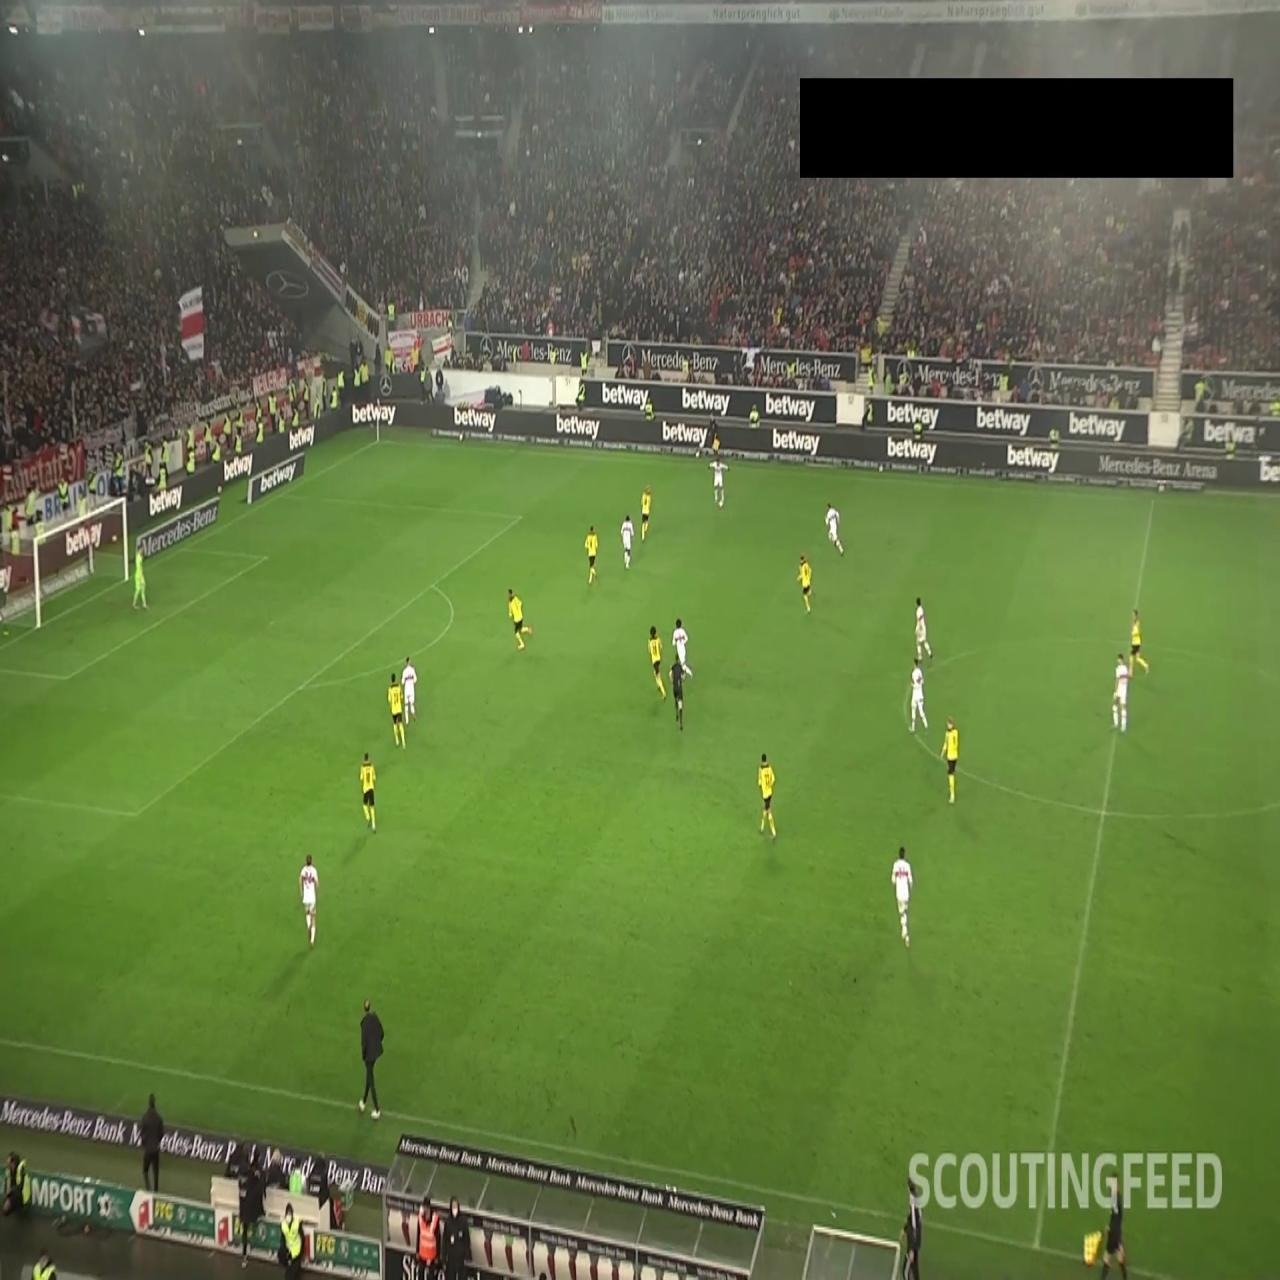Ball: (718, 499, 724, 510)
GoalKeeper: (132, 544, 149, 610)
Player: (890, 845, 914, 947), (299, 852, 320, 948), (940, 714, 959, 804), (758, 752, 776, 842), (387, 670, 407, 751), (1128, 608, 1150, 679), (360, 751, 378, 832), (910, 658, 929, 734), (1112, 652, 1130, 732), (648, 625, 667, 698), (507, 588, 528, 651), (400, 656, 418, 726), (914, 596, 932, 663), (672, 616, 691, 678), (708, 452, 729, 506), (825, 501, 844, 556), (796, 552, 812, 614), (584, 524, 599, 586), (620, 512, 634, 569), (640, 482, 653, 540)
Referee: (1082, 1174, 1128, 1280), (670, 654, 689, 731), (708, 411, 721, 460)
